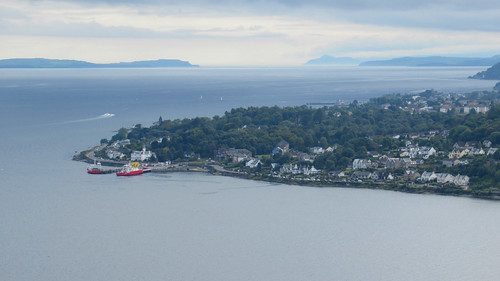boat: (116, 160, 150, 177), (85, 160, 119, 177)
sea: (4, 178, 500, 281), (1, 63, 461, 132)
sky: (1, 1, 500, 52)
